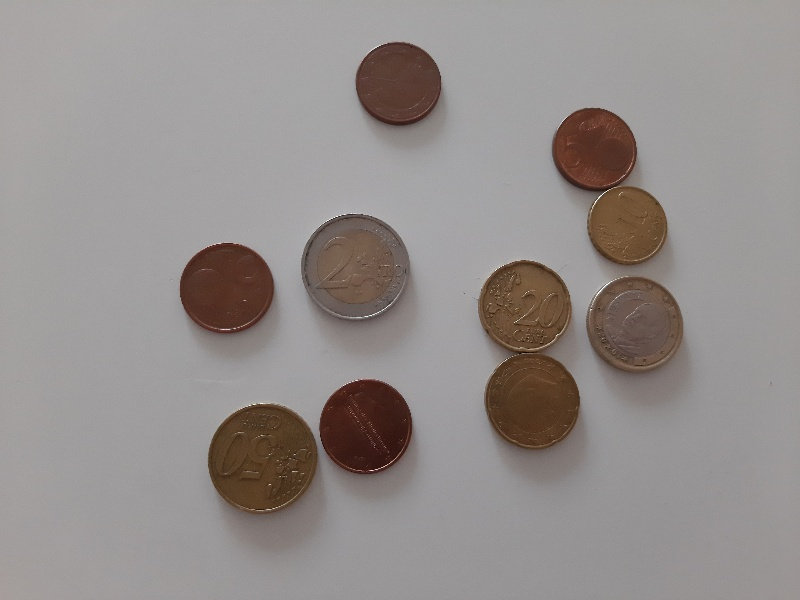1 euro: (585, 275, 687, 376)
10 cent: (584, 183, 672, 268)
2 euro: (298, 210, 414, 324)
20 cent: (483, 350, 585, 455), (476, 259, 577, 354)
5 cent: (318, 377, 415, 475), (178, 240, 277, 334), (352, 41, 444, 128), (550, 106, 640, 190)
50 cent: (204, 400, 318, 516)
